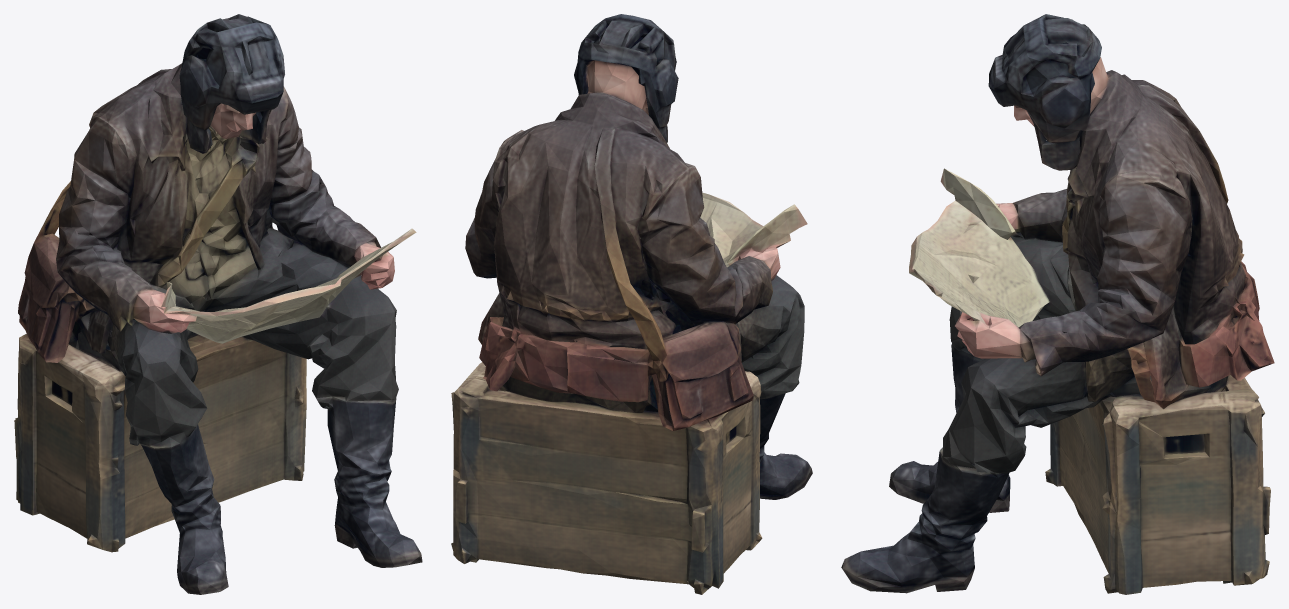
The model's file is crew_su_map.obj.
The picture shows the model from 3 angles, left to right: view 1: azimuth 30°, elevation 25°; view 2: azimuth 150°, elevation 25°; view 3: azimuth 270°, elevation 25°; orthographic projection. The views are drawn at different scales.
Visible parts, largest first — view 1: crew_su_map; view 2: crew_su_map; view 3: crew_su_map.
Boxes of the visible parts, x1,y1,x2,y2 form: crew_su_map: (14,14,422,594); crew_su_map: (451,14,812,594); crew_su_map: (841,14,1274,594).
Bounding box in the file's own units: 0.908 × 1.45 × 1.08.
1 material, 1 textured.
